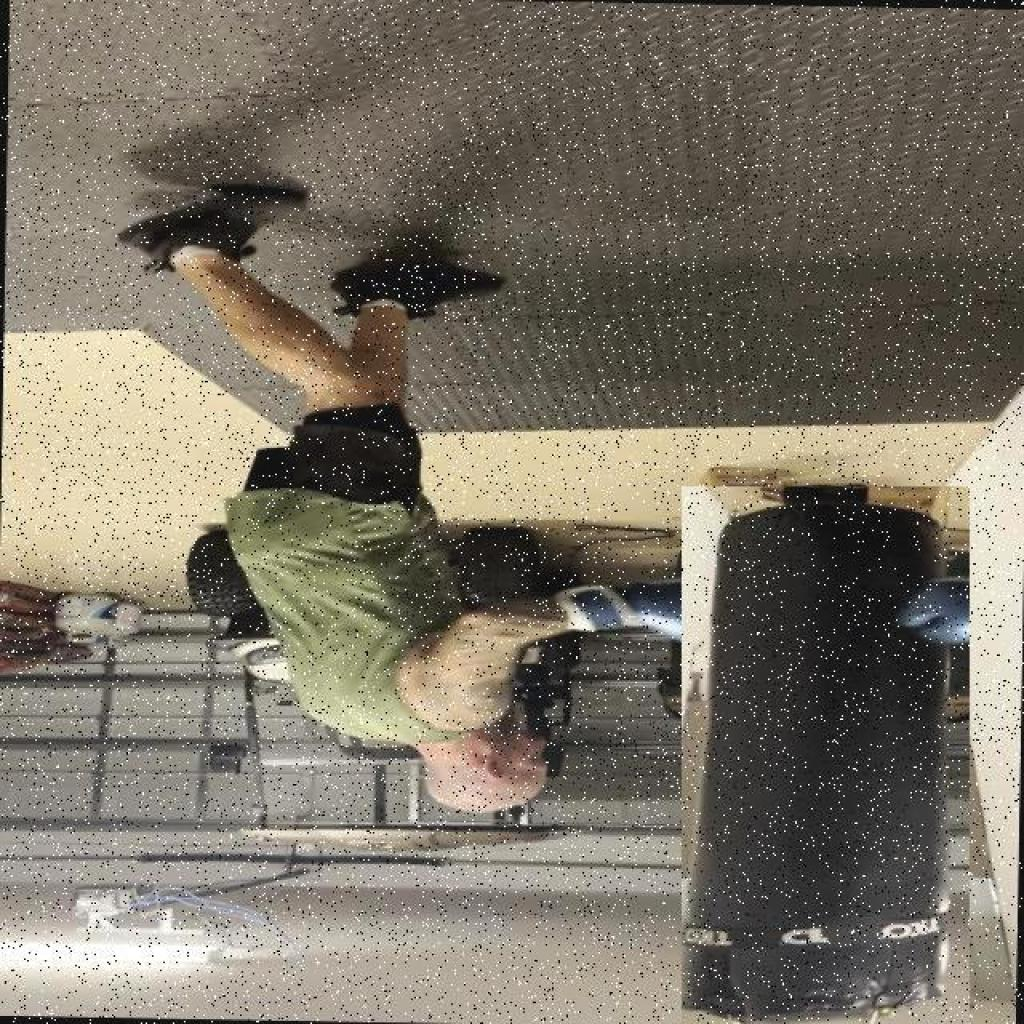bag: (682, 486, 968, 1024)
hook: (240, 523, 773, 837)
